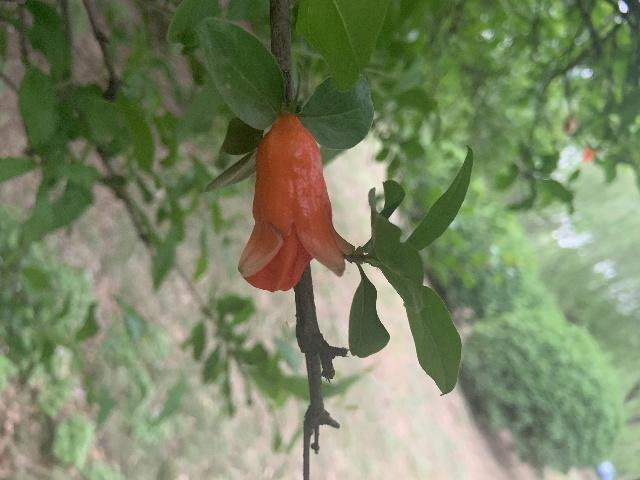flower: (237, 113, 354, 291)
